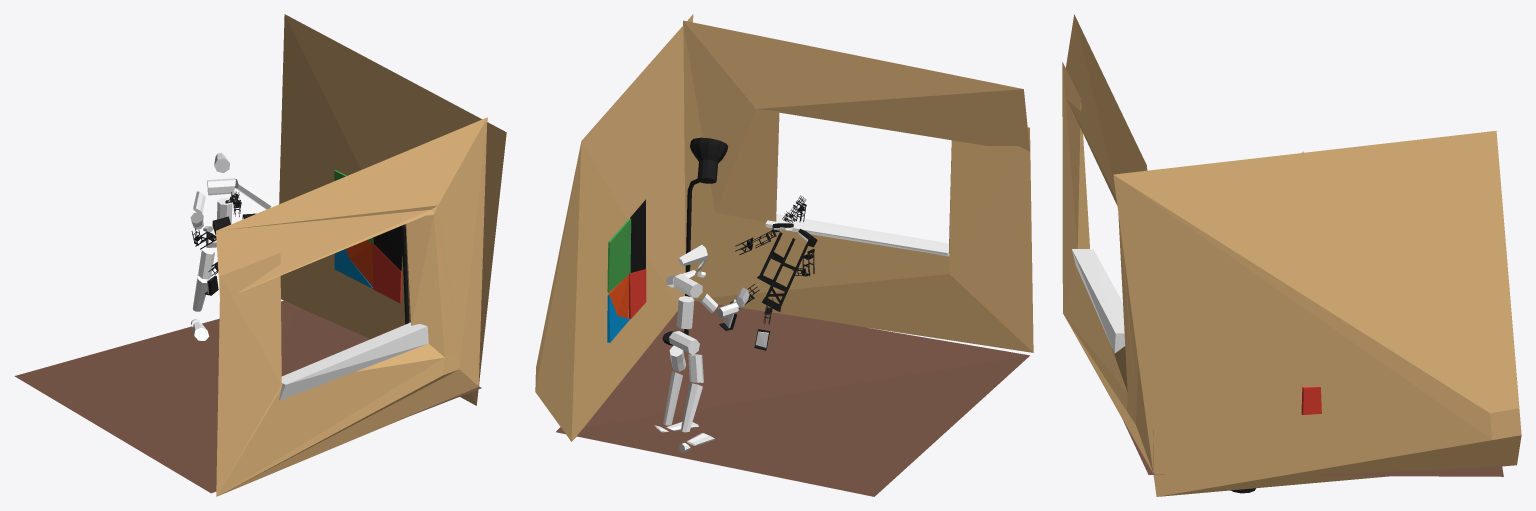
Rendered from chair-man-is-born-by-aaron-santiago-7OQeue3MhPI.glb.
The picture shows the model from 3 angles, left to right: view 1: azimuth 30°, elevation 25°; view 2: azimuth 150°, elevation 25°; view 3: azimuth 270°, elevation 25°; orthographic projection. The views are drawn at different scales.
Parts seen in each view (by area): view 1: group182931868, group826321484, group1988578815, group2043681471, group2131623704, group806963117, group371601303, group1528377990; view 2: group182931868, group1988578815, group826321484, group2043681471, group1616084445, group1149355134, group1228614687, group806963117, group2131623704, group210820548, group371601303, group1298840256 (+1 smaller); view 3: group826321484, group182931868, group2043681471, group1988578815, group2131623704.
Boxes of the visible parts, x1,y1,x2,y2 form: group182931868: (216, 117, 487, 496); group826321484: (279, 14, 506, 405); group1988578815: (14, 300, 481, 493); group2043681471: (279, 322, 428, 400); group2131623704: (372, 243, 401, 303); group806963117: (373, 226, 402, 270); group371601303: (346, 240, 372, 286); group1528377990: (334, 249, 372, 288); group182931868: (683, 20, 1033, 352); group1988578815: (556, 301, 1029, 496); group826321484: (535, 14, 693, 441); group2043681471: (765, 214, 949, 256); group1616084445: (607, 218, 631, 292); group1149355134: (690, 137, 728, 183); group1228614687: (757, 232, 807, 311); group806963117: (630, 199, 645, 272); group2131623704: (629, 269, 646, 319); group210820548: (680, 383, 702, 432); group371601303: (608, 274, 629, 318); group1298840256: (662, 178, 699, 345); group826321484: (1113, 130, 1521, 496); group182931868: (1062, 14, 1154, 475); group2043681471: (1072, 249, 1125, 353); group1988578815: (1122, 418, 1503, 476); group2131623704: (1301, 387, 1321, 414).
Size of the model in its own units: 4.9 by 4.33 by 5.03.
